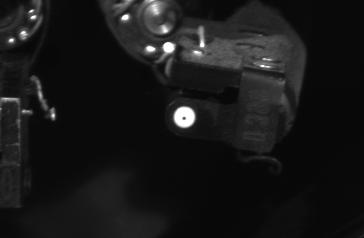fiber: (165, 101, 204, 133)
